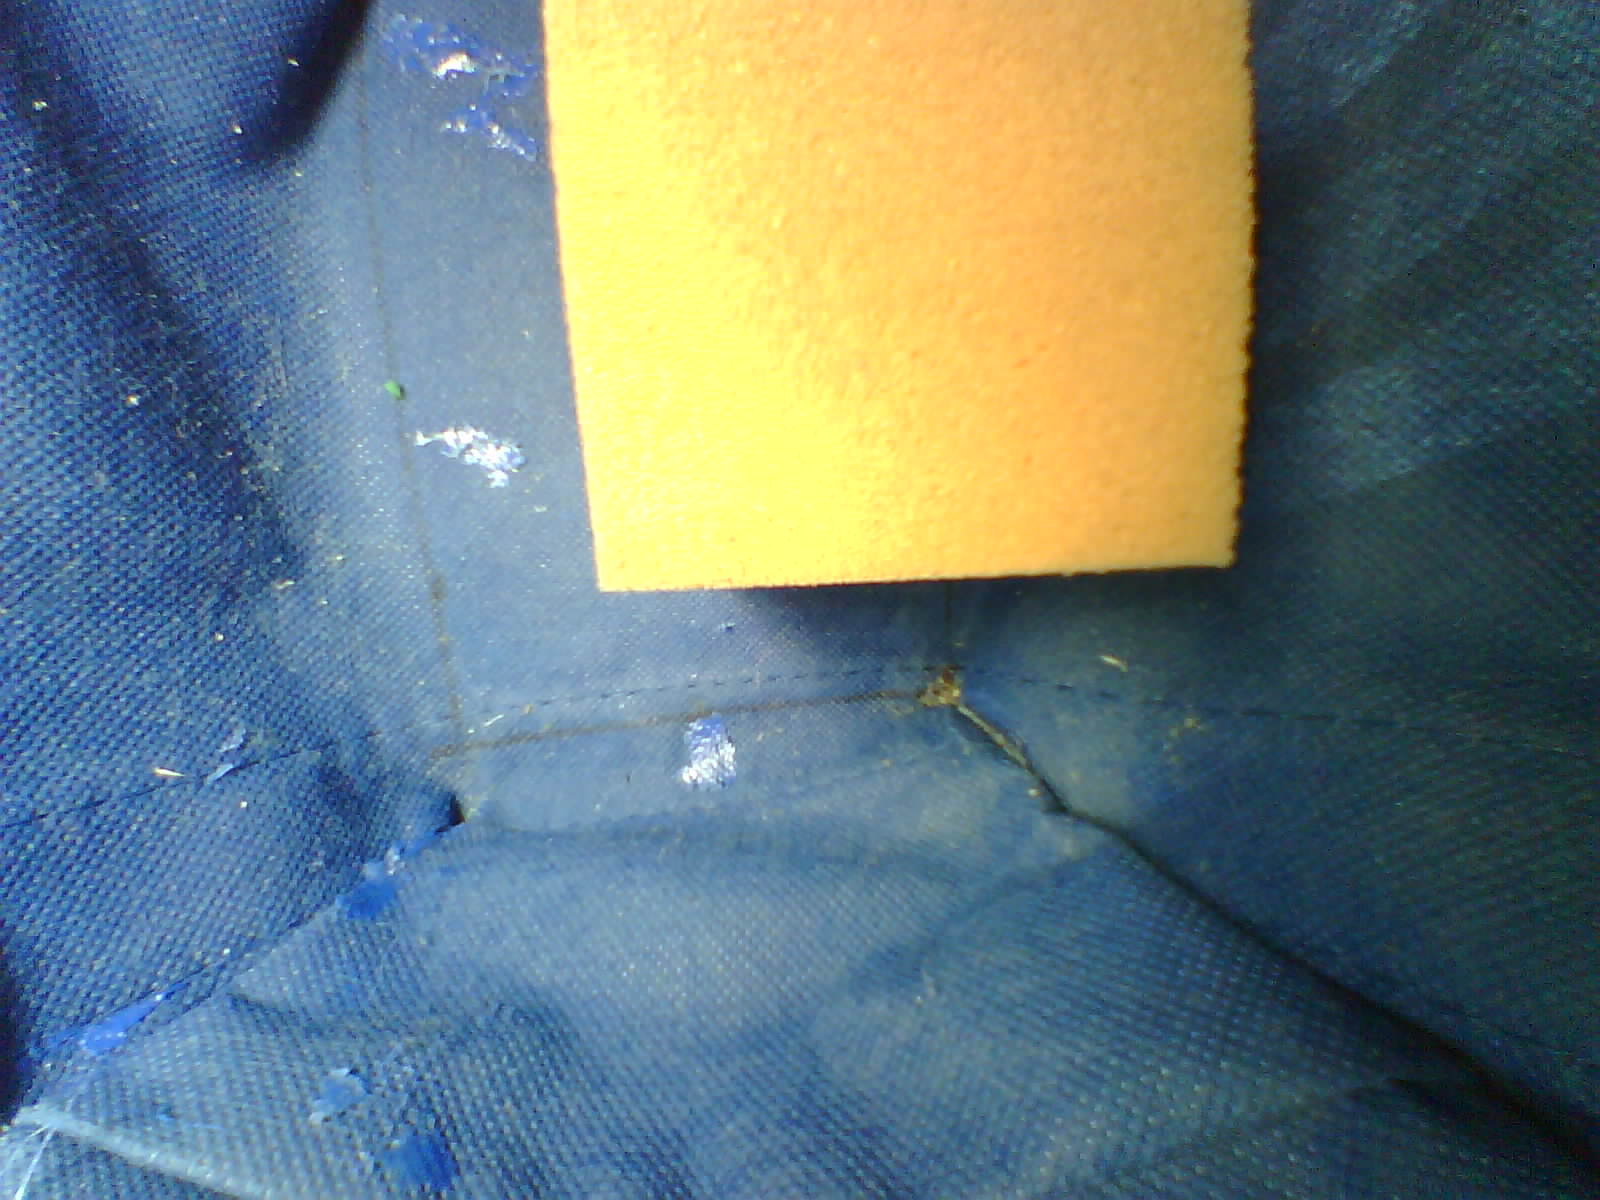cube-soft: (509, 0, 1280, 614)
